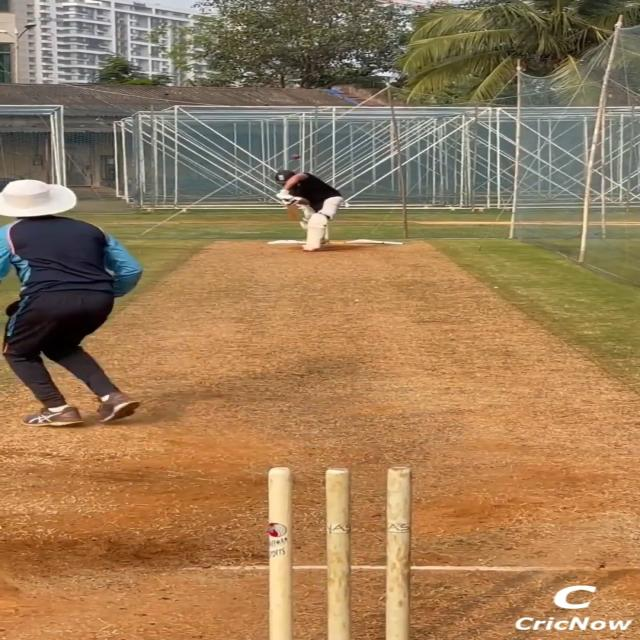ball: (290, 154, 300, 160)
stump: (259, 464, 419, 640)
